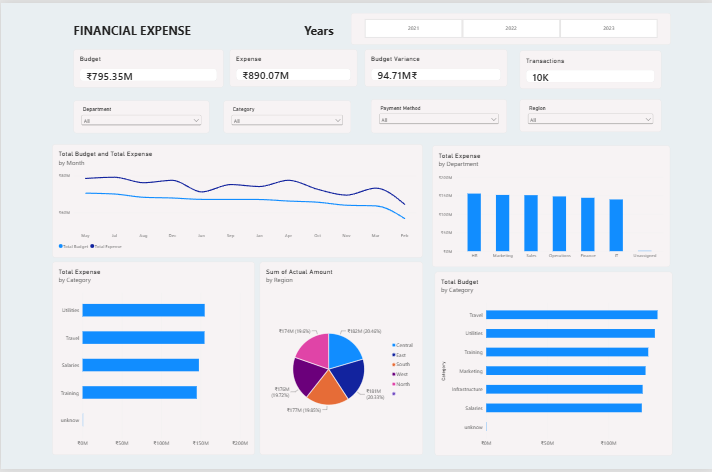

The page's visual inventory and layout, read from the dashboard file:
{"tool":"powerbi","page":{"name":"Page 1","canvas":[1900,1245],"ordinal":0},"visuals":[{"type":"textbox","box":[192.5,50,715,57.5],"z":0},{"type":"cardVisual","title":"Budget","fields":{"Data":["Financial_Expenses.Total Budget"]},"box":[192.5,122.5,400,102.5],"z":1000},{"type":"cardVisual","title":"Expense","fields":{"Data":["Financial_Expenses.Total Expense"]},"box":[610,122.5,340,100],"z":2000},{"type":"cardVisual","title":"Budget Variance","fields":{"Data":["Financial_Expenses.Budget Variance"]},"box":[970,122.5,380,100],"z":3000},{"type":"cardVisual","title":"Transactions","fields":{"Data":["Financial_Expenses.Total Transactions"]},"box":[1382.5,125,377.5,102.5],"z":5000},{"type":"lineChart","fields":{"Category":["DateTable.Month"],"Y":["Financial_Expenses.Total Budget","Financial_Expenses.Total Expense"]},"box":[136.7,376.7,988,302],"z":6000},{"type":"barChart","fields":{"Category":["Financial_Expenses.Category"],"Y":["Financial_Expenses.Total Budget"]},"box":[1156.7,716.7,633.3,490],"z":7000},{"type":"columnChart","fields":{"Category":["Financial_Expenses.Department"],"Y":["Financial_Expenses.Total Expense"]},"box":[1150,380,634,324],"z":8000},{"type":"pieChart","fields":{"Category":["Financial_Expenses.Region"],"Y":["Sum(Financial_Expenses.Actual Amount)"]},"box":[690,690,435,515],"z":9000},{"type":"clusteredBarChart","fields":{"Category":["Financial_Expenses.Category"],"Y":["Financial_Expenses.Total Expense"]},"box":[135,690,540,515],"z":10000},{"type":"slicer","fields":{"Values":["DateTable.Year"]},"box":[932.5,25,852.5,85],"z":11000},{"type":"slicer","fields":{"Values":["Financial_Expenses.Department"]},"box":[192.5,260,362.5,87.5],"z":12000},{"type":"slicer","fields":{"Values":["Financial_Expenses.Category"]},"box":[592.5,260,340,87.5],"z":13000},{"type":"slicer","fields":{"Values":["Financial_Expenses.Region"]},"box":[1382.5,255,377.5,87.5],"z":14000},{"type":"slicer","fields":{"Values":["Financial_Expenses.Payment Method"]},"box":[987.5,255,362.5,90],"z":15000}]}

Visuals, with their boxes in screenshot pixels (x1, y1, x2, y2), scaled from the page's 1900x1245 canvas onto the 712x472 screenshot:
textbox: box=[72, 19, 340, 41]
"Budget" cardVisual: box=[72, 46, 222, 85]
"Expense" cardVisual: box=[229, 46, 356, 84]
"Budget Variance" cardVisual: box=[363, 46, 506, 84]
"Transactions" cardVisual: box=[518, 47, 660, 86]
lineChart - DateTable.Month x Financial_Expenses.Total Budget: box=[51, 143, 421, 257]
barChart - Financial_Expenses.Category x Financial_Expenses.Total Budget: box=[433, 272, 671, 457]
columnChart - Financial_Expenses.Department x Financial_Expenses.Total Expense: box=[431, 144, 669, 267]
pieChart - Financial_Expenses.Region x Sum(Financial_Expenses.Actual Amount): box=[259, 262, 422, 457]
clusteredBarChart - Financial_Expenses.Category x Financial_Expenses.Total Expense: box=[51, 262, 253, 457]
slicer - DateTable.Year: box=[349, 9, 669, 42]
slicer - Financial_Expenses.Department: box=[72, 99, 208, 132]
slicer - Financial_Expenses.Category: box=[222, 99, 349, 132]
slicer - Financial_Expenses.Region: box=[518, 97, 660, 130]
slicer - Financial_Expenses.Payment Method: box=[370, 97, 506, 131]
